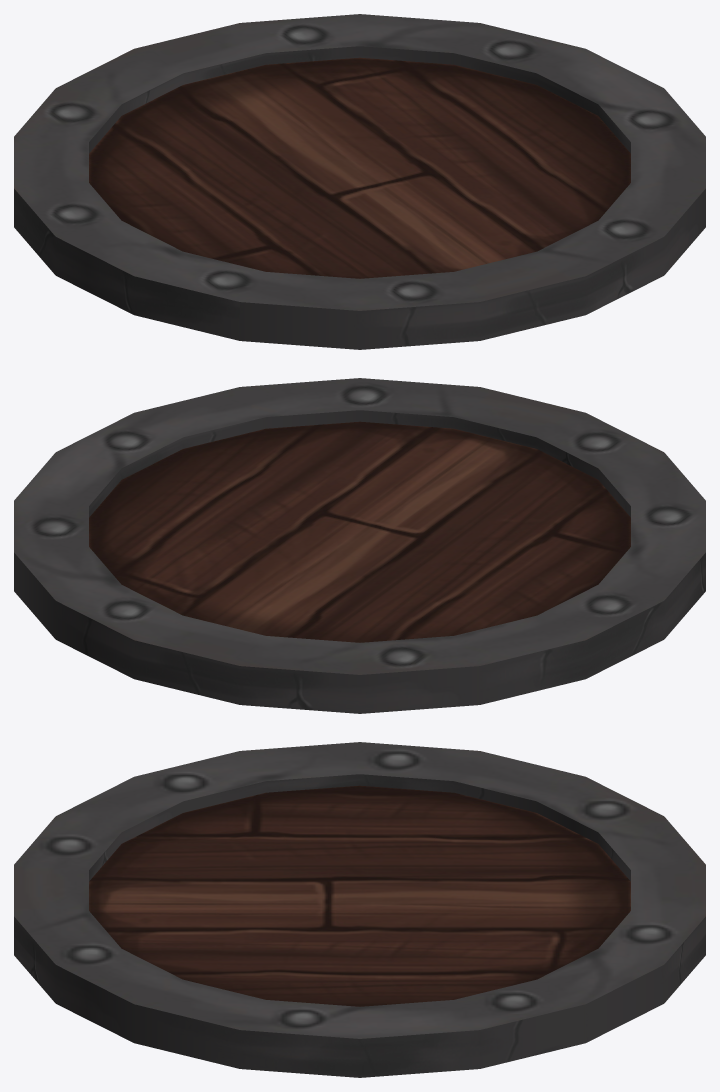
Rendered from Shield2.FBX.
The picture shows the model from 3 angles, top to bottom: view 1: azimuth 30°, elevation 25°; view 2: azimuth 150°, elevation 25°; view 3: azimuth 270°, elevation 25°; orthographic projection.
Parts seen in each view (by area): view 1: Cylinder008; view 2: Cylinder008; view 3: Cylinder008.
Part boxes in pixels (box(x1,y1,x2,y2)): Cylinder008: box(14, 14, 705, 349); Cylinder008: box(14, 378, 705, 713); Cylinder008: box(14, 742, 705, 1077).
Bounding box in the file's own units: 158 × 9.66 × 156.
